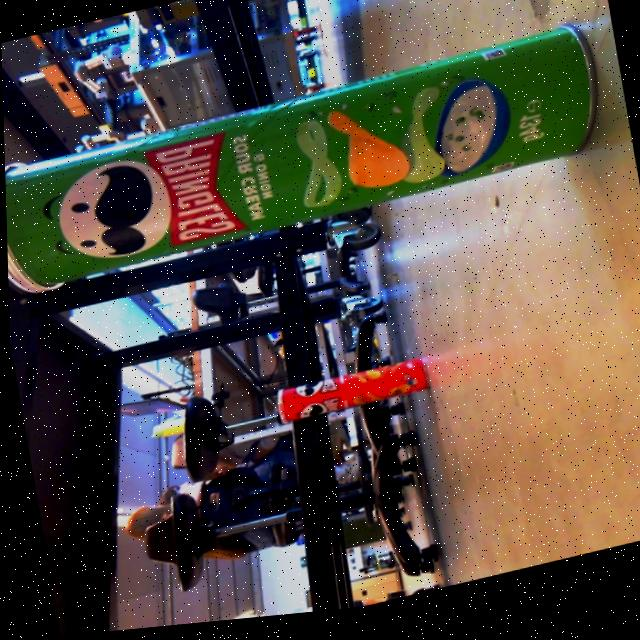greenpringles: (1, 11, 616, 346)
redpringles: (262, 346, 437, 443)
